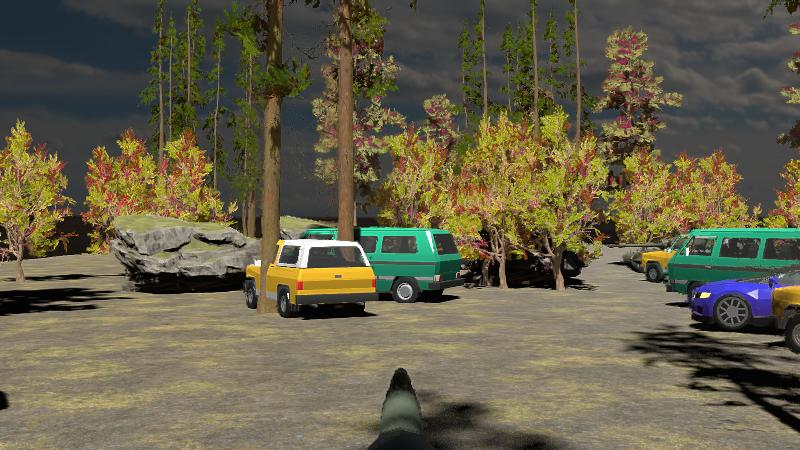car: (243, 236, 376, 319), (666, 228, 800, 304), (347, 227, 462, 303), (688, 264, 800, 342), (301, 227, 339, 245)
